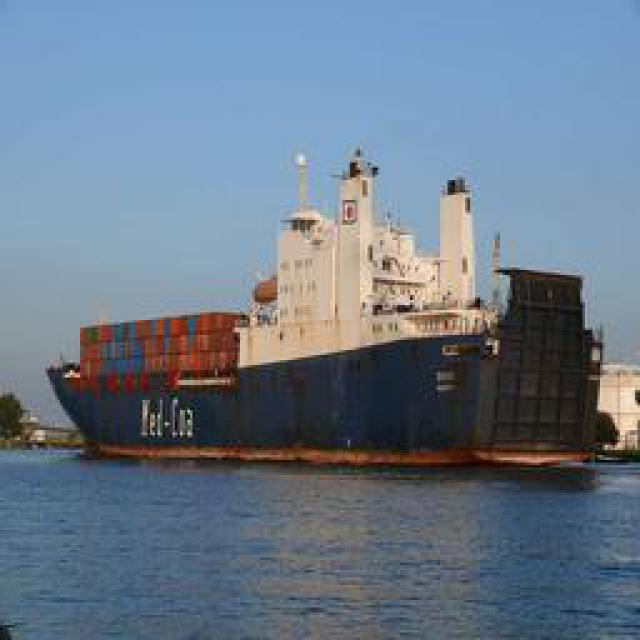Ship: (55, 138, 603, 456)
